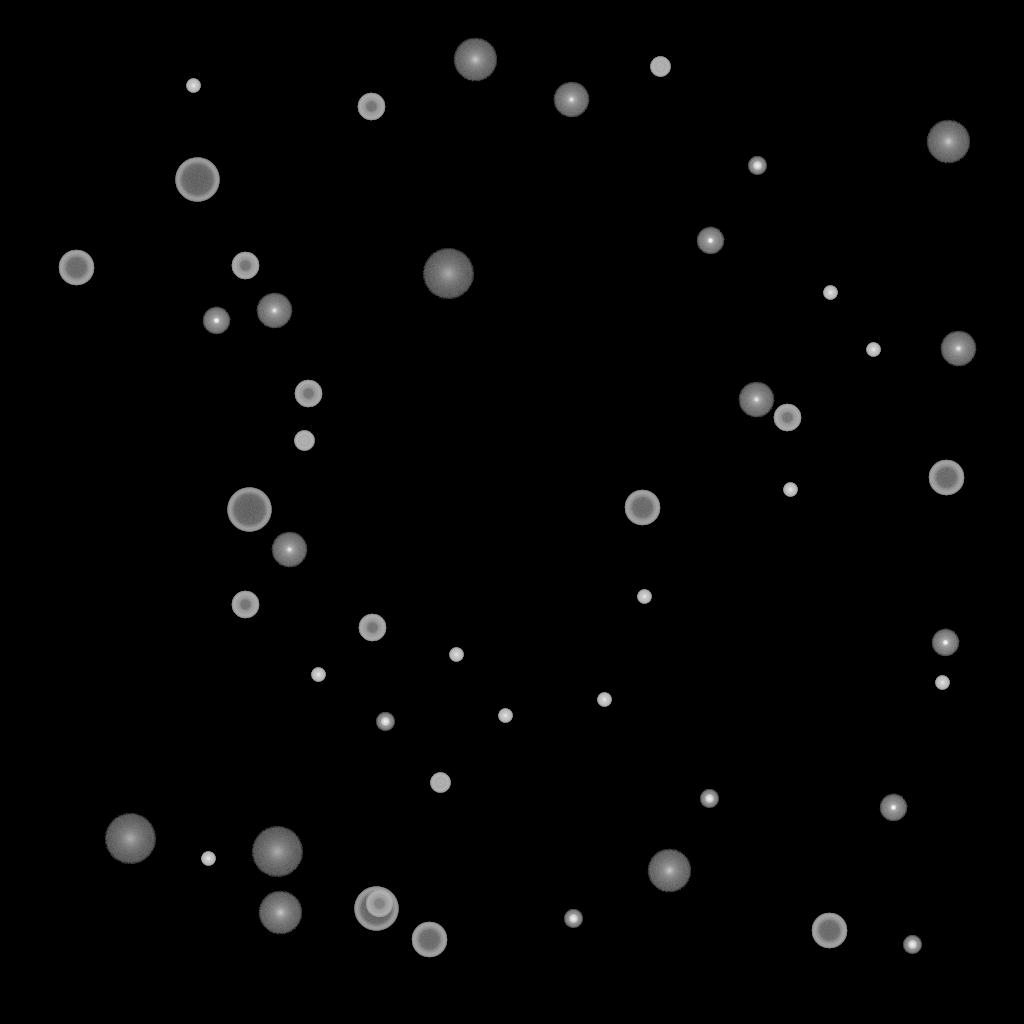depth:-10: (202, 307, 230, 335), (696, 227, 724, 255), (931, 629, 959, 657), (879, 794, 907, 822)
depth:-20: (376, 713, 394, 731), (903, 936, 921, 954), (748, 157, 766, 175), (700, 790, 718, 808), (564, 910, 582, 928)
depth:-30: (449, 648, 463, 662), (935, 676, 949, 690), (637, 590, 651, 604), (783, 483, 797, 497), (311, 668, 325, 682), (866, 343, 880, 357), (498, 709, 512, 723), (823, 286, 837, 300), (597, 693, 611, 707), (201, 852, 215, 866), (186, 79, 200, 93)
depth:-40: (650, 57, 670, 77), (294, 431, 314, 451), (430, 773, 450, 793)
depth:-50: (357, 93, 385, 121), (294, 380, 322, 408), (358, 614, 386, 642), (365, 890, 393, 918), (773, 404, 801, 432), (231, 591, 259, 619), (231, 252, 259, 280)
depth:-60: (811, 913, 847, 949), (411, 922, 447, 958), (58, 250, 94, 286), (624, 490, 660, 526), (928, 460, 964, 496)
depth:-70: (175, 158, 219, 202), (354, 887, 398, 931), (227, 488, 271, 532)
depth:0: (940, 331, 976, 367), (256, 293, 292, 329), (553, 82, 589, 118), (738, 382, 774, 418), (271, 532, 307, 568)
depth:10: (647, 849, 691, 893), (926, 120, 970, 164), (258, 891, 302, 935), (453, 38, 497, 82)
depth:20: (422, 249, 474, 299), (251, 827, 303, 877), (104, 814, 156, 864)
